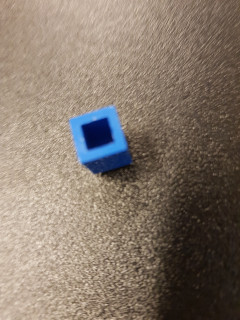1x1 blue: (70, 106, 133, 173)
